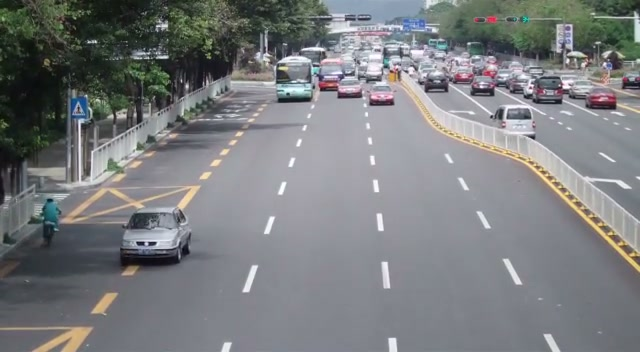bus: (275, 55, 314, 102), (300, 47, 327, 81), (318, 57, 344, 91)
car: (119, 206, 193, 266), (492, 104, 537, 138), (532, 76, 564, 104), (585, 87, 617, 110), (368, 83, 395, 106), (424, 72, 450, 93), (470, 76, 496, 96), (337, 78, 363, 98), (507, 73, 532, 93), (569, 80, 595, 99), (452, 67, 475, 83), (621, 72, 640, 89)
motorcycle: (41, 219, 59, 247)
pedestrian: (41, 197, 62, 235)
